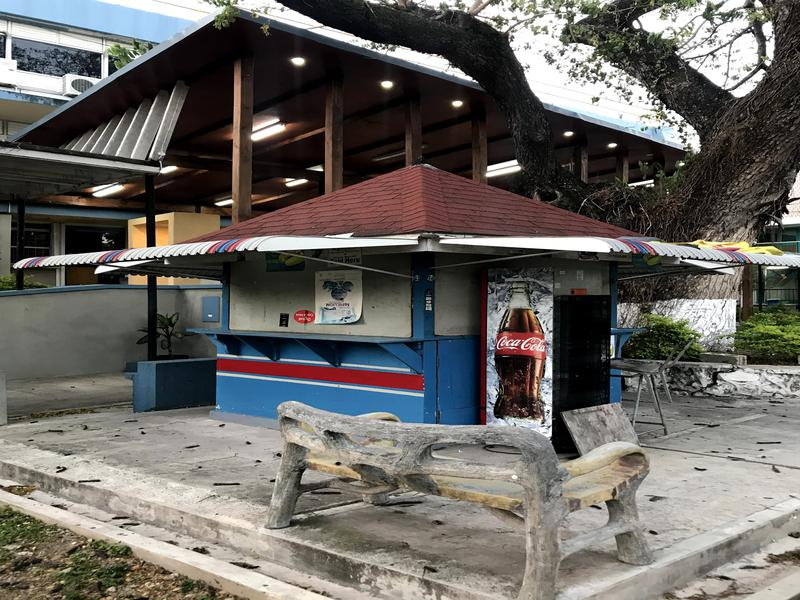18.0051667_-76.74944412_librarystall: (207, 159, 662, 449)
